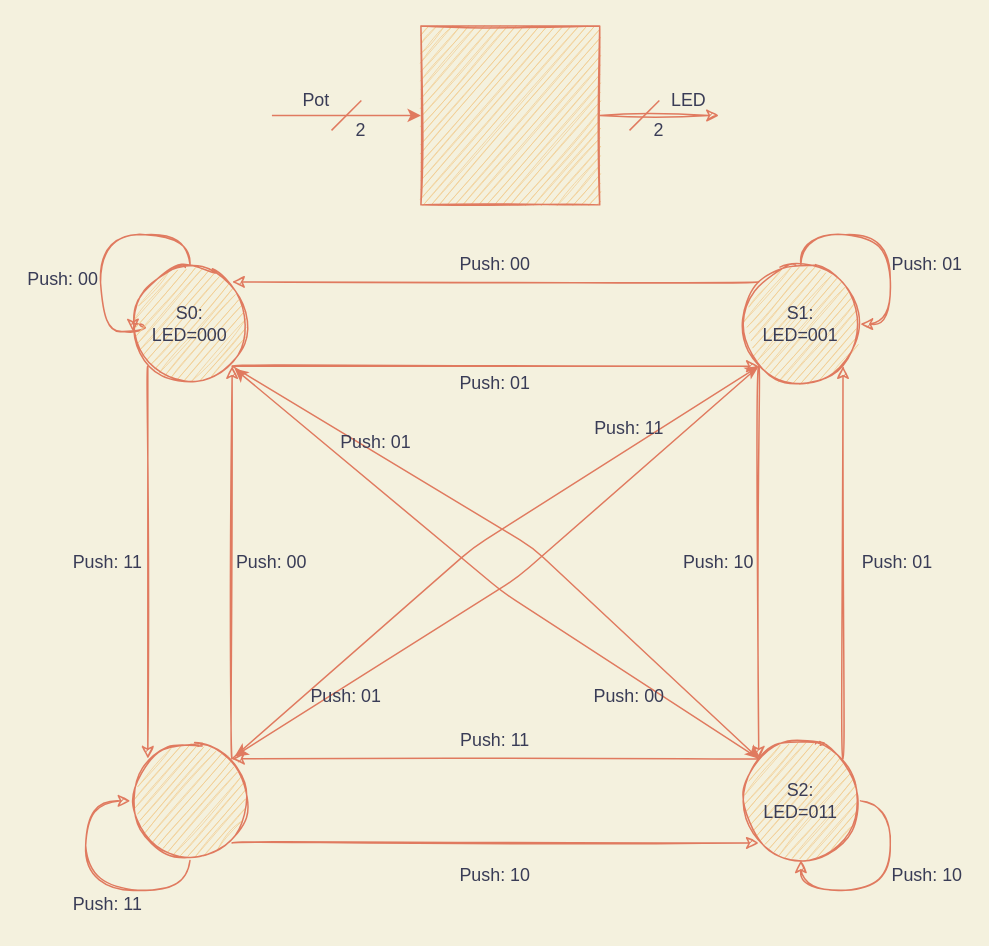
This 989x946 diagram has some shape labels left out. Here are the shapes that lost their labels. From the top down, the centre of each, then its label:
At [509,115]: "Encendido de LEDs".
At [189,800]: "S3: LED=111".
